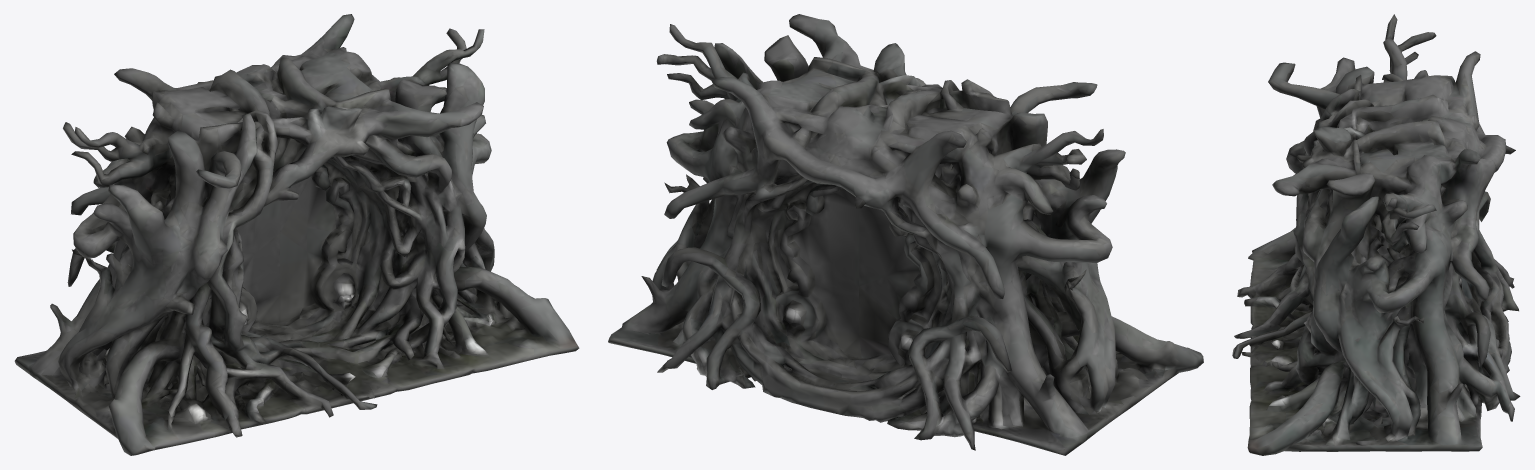
The model's file is portal_dark.glb.
The picture shows the model from 3 angles, left to right: view 1: azimuth 30°, elevation 25°; view 2: azimuth 150°, elevation 25°; view 3: azimuth 270°, elevation 25°; orthographic projection. The views are drawn at different scales.
Size of the model in its own units: 2 by 1.16 by 1.21.
1 material, 1 textured.
